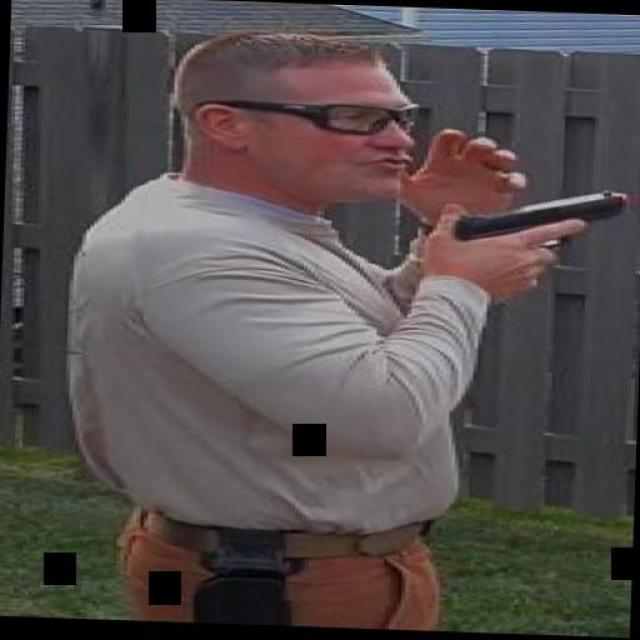gun: (432, 181, 626, 299)
